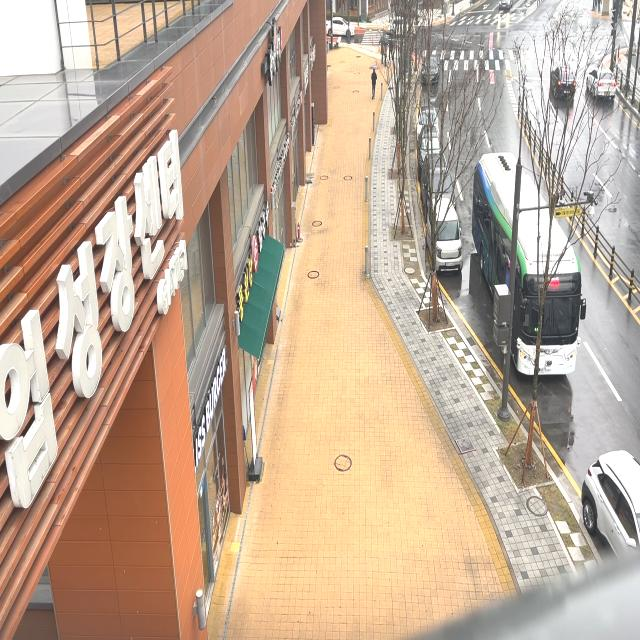Bus: (464, 134, 591, 392)
Car: (576, 436, 640, 586), (422, 198, 465, 276), (418, 146, 464, 216), (586, 56, 622, 110), (415, 120, 446, 164), (323, 15, 364, 45), (552, 56, 578, 103), (419, 46, 442, 91), (414, 103, 446, 133), (388, 16, 418, 36)
